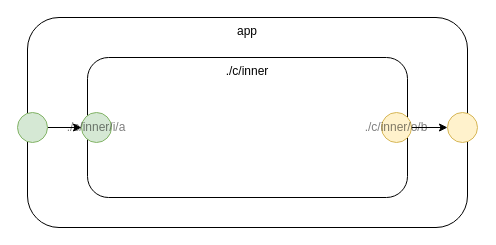
This 496x245 diagram has some shape labels left out. Each missing label, with the centre of its shape:
./i/in: (32,127)
./o/out: (462,127)
